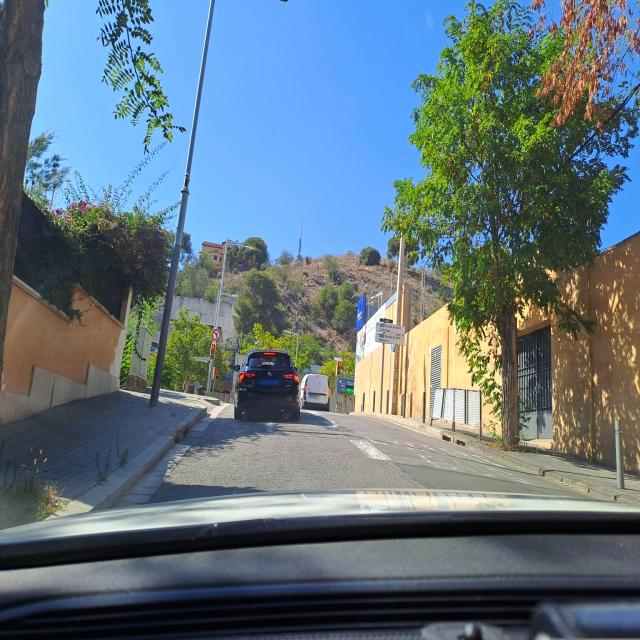car: (233, 349, 300, 421), (300, 373, 330, 411)
